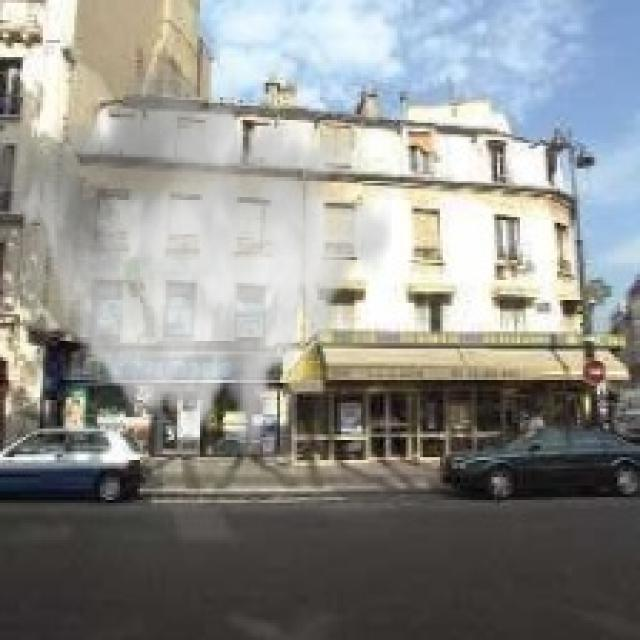Smoke: (14, 54, 392, 460)
